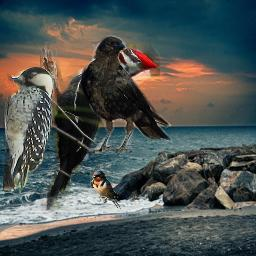Crow: (79, 35, 172, 154)
Swallow: (90, 170, 121, 209)
Woodpecker: (40, 40, 160, 210), (3, 66, 54, 191)
